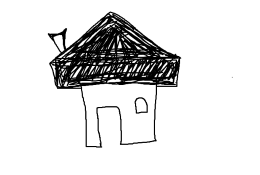chimney: (45, 23, 74, 59)
door: (94, 100, 127, 151)
open_window: (132, 95, 151, 116)
shaded_roof: (49, 11, 181, 89)
wall: (79, 79, 163, 150)
